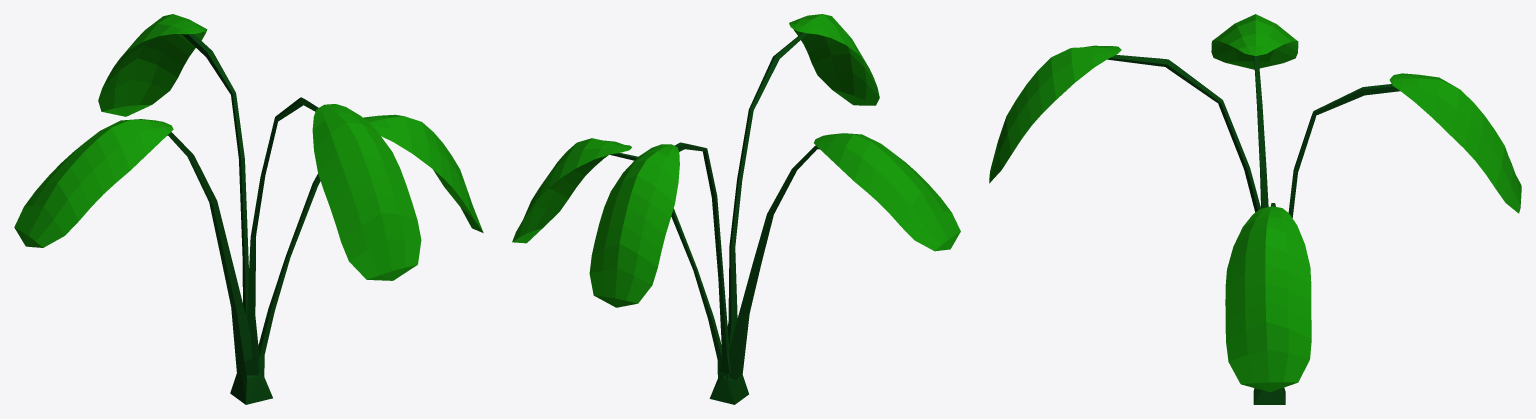
Rendered from Plant2.fbx.
The picture shows the model from 3 angles, left to right: view 1: azimuth 30°, elevation 25°; view 2: azimuth 150°, elevation 25°; view 3: azimuth 270°, elevation 25°; orthographic projection. The views are drawn at different scales.
Parts seen in each view (by area): view 1: Plane.007; view 2: Plane.007; view 3: Plane.007.
Boxes of the visible parts, box(x1,y1,x2,y2) form: Plane.007: box(14, 14, 483, 404); Plane.007: box(512, 14, 960, 404); Plane.007: box(989, 14, 1521, 404).
Size of the model in its own units: 127 by 92.32 by 127.
